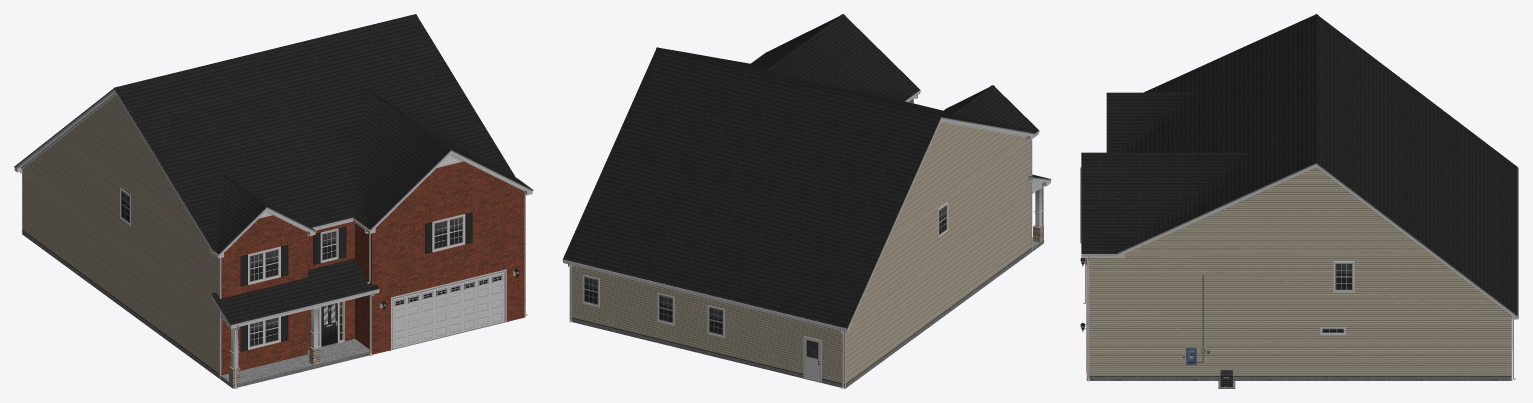
Rendered from house29_mirror1.fbx.
3 renders of one model, left to right at view 1: azimuth 30°, elevation 25°; view 2: azimuth 150°, elevation 25°; view 3: azimuth 270°, elevation 25°, orthographic. The views are drawn at different scales.
Parts seen in each view (by area): view 1: house29_mirror1_LOD0; view 2: house29_mirror1_LOD0; view 3: house29_mirror1_LOD0.
Part boxes in pixels (bbox=[...]): house29_mirror1_LOD0: bbox=[14, 14, 533, 388]; house29_mirror1_LOD0: bbox=[562, 14, 1051, 388]; house29_mirror1_LOD0: bbox=[1080, 14, 1518, 388].
Size of what is drawn, in the model's own units: 4.31 by 2.86 by 5.16.
